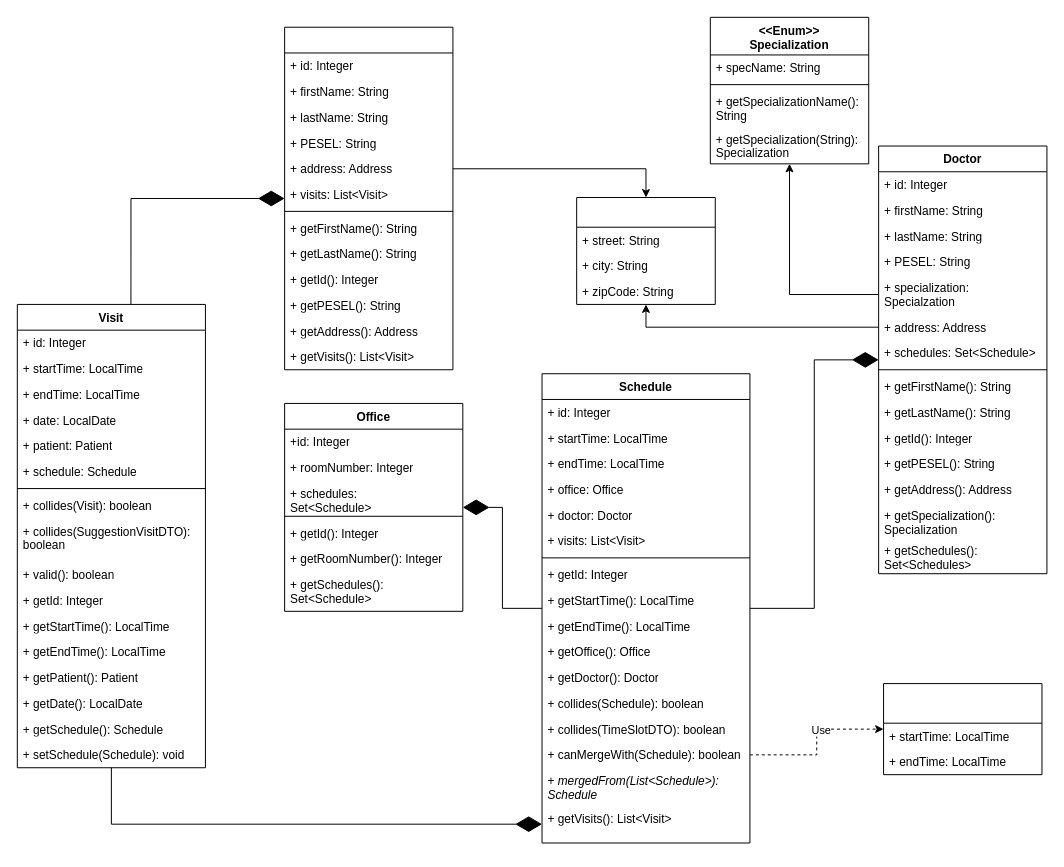
This 1064x867 diagram has some shape labels left out. The shapes that lost their labels are listed below. From the top down, each one's box as (x1, y1, x2, y2) in pixels, then its label:
(284, 26, 453, 370): Patient
(576, 197, 715, 304): Address <<Record>>
(883, 683, 1042, 775): <<Record>> TimeSlotDTO
